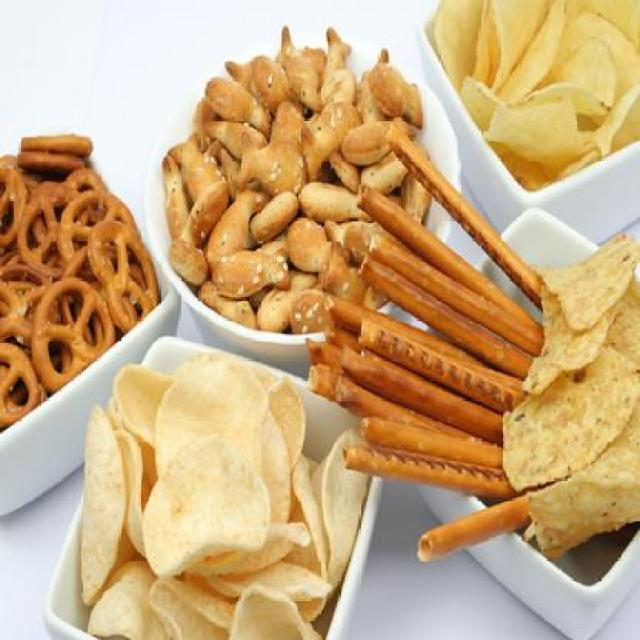Chips packaged: (92, 338, 314, 638), (428, 2, 640, 175)
Salatini packaged: (160, 48, 442, 304), (1, 129, 145, 420)
